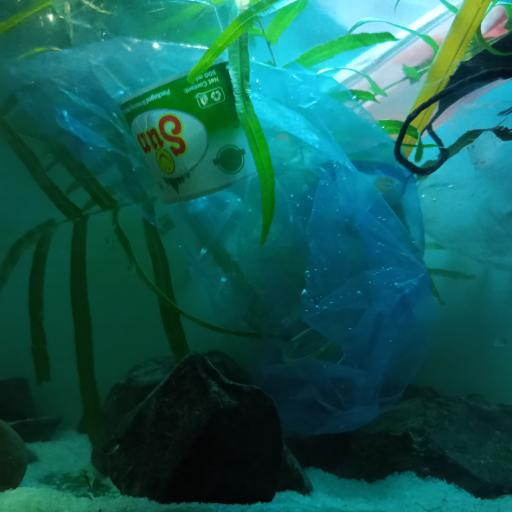mask: (325, 0, 512, 136), (393, 36, 512, 175)
plastic_bag: (1, 38, 441, 433)
plastic_bottle: (57, 0, 352, 368)
plastic_straw: (400, 0, 492, 155)
